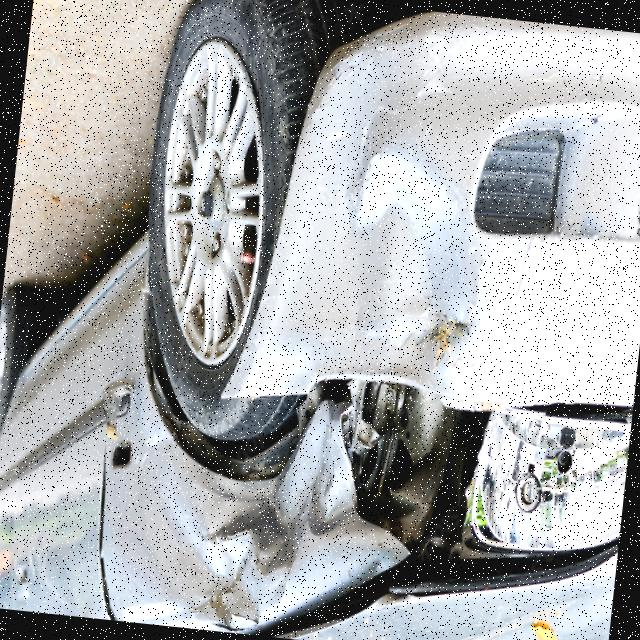Dent: (314, 83, 506, 377), (148, 433, 310, 615)
Head Light: (322, 358, 634, 580)
